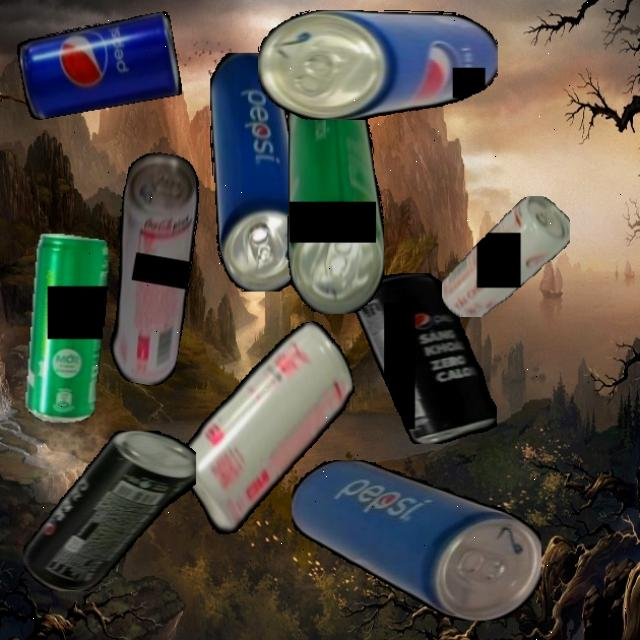debris: (160, 317, 375, 539), (290, 460, 542, 621), (92, 148, 212, 389), (23, 430, 196, 591), (258, 9, 498, 120), (354, 272, 496, 444), (286, 74, 384, 314), (209, 52, 306, 291), (15, 11, 183, 121), (24, 232, 110, 422), (441, 195, 570, 317)
